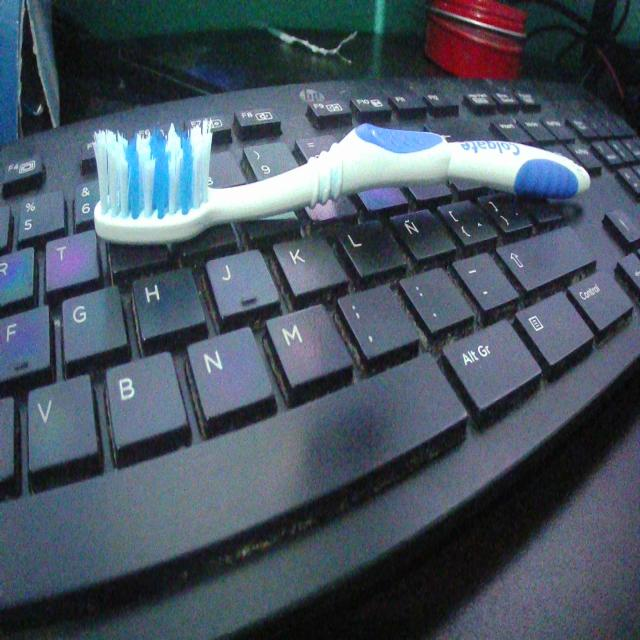Organico: (72, 87, 610, 256)
